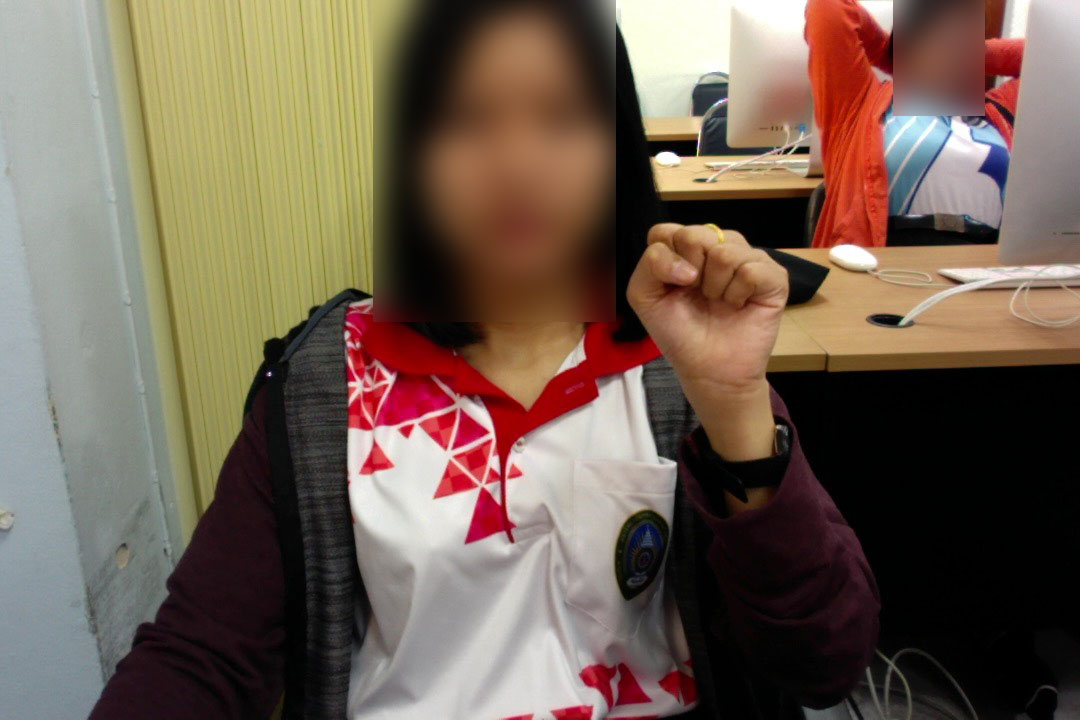sor: (621, 214, 796, 406)
